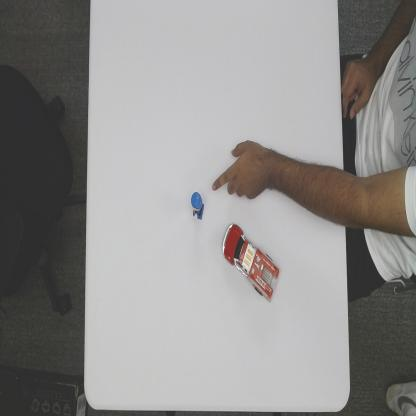Arm: (268, 148, 344, 228)
Firetruck: (221, 219, 281, 303)
Hand: (211, 139, 272, 201)
